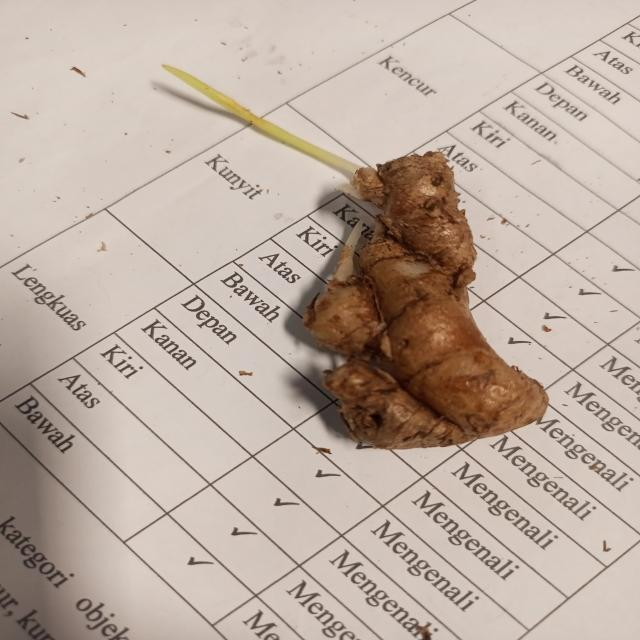ginger: (327, 151, 538, 444)
